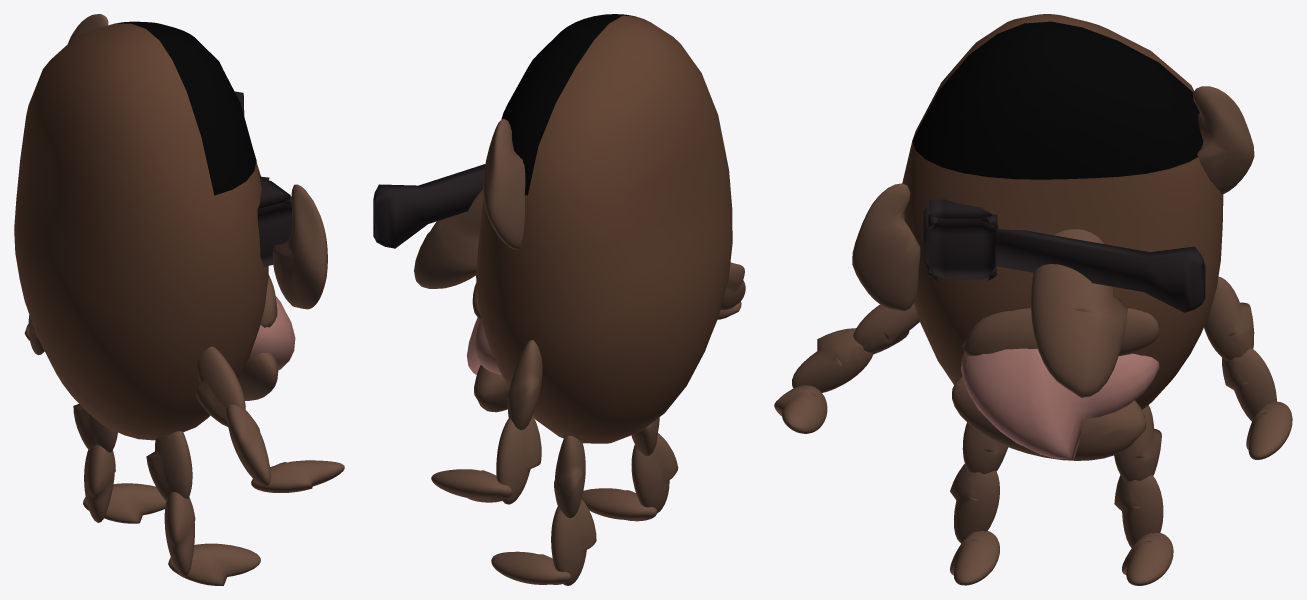
File: best diddy model.fbx
The picture shows the model from 3 angles, left to right: view 1: azimuth 30°, elevation 25°; view 2: azimuth 150°, elevation 25°; view 3: azimuth 270°, elevation 25°; orthographic projection.
Parts seen in each view (by area): view 1: Sphere, Sphere.007, Sphere.017, Sphere.011, Sphere.009, Cube, Sphere.016, Sphere.010, Sphere.015, Sphere.012, Sphere.014, Sphere.001 (+4 smaller); view 2: Sphere, Cube, Sphere.005, Sphere.008, Sphere.018, Sphere.014, Sphere.010, Sphere.019, Sphere.013, Sphere.020, Sphere.012, Sphere.011 (+4 smaller); view 3: Sphere, Cube, Sphere.001, Sphere.005, Sphere.007, Sphere.008, Sphere.004, Sphere.003, Sphere.016, Sphere.019, Sphere.010, Sphere.014 (+8 smaller).
Part boxes in pixels (box(x1,y1,x2,y2)): Sphere: box(14, 21, 268, 440); Sphere.007: box(272, 184, 327, 309); Sphere.017: box(196, 346, 245, 426); Sphere.011: box(168, 543, 260, 585); Sphere.009: box(146, 431, 192, 501); Cube: box(235, 91, 292, 266); Sphere.016: box(226, 404, 270, 486); Sphere.010: box(164, 492, 195, 576); Sphere.015: box(251, 460, 344, 492); Sphere.012: box(83, 483, 165, 523); Sphere.014: box(84, 445, 115, 522); Sphere.001: box(247, 296, 295, 370); Sphere: box(476, 14, 732, 443); Cube: box(373, 164, 485, 248); Sphere.005: box(414, 190, 483, 288); Sphere.008: box(483, 118, 525, 249); Sphere.018: box(496, 415, 541, 504); Sphere.014: box(551, 499, 596, 585); Sphere.010: box(631, 433, 678, 512); Sphere.019: box(507, 340, 542, 429); Sphere.013: box(554, 435, 585, 517); Sphere.020: box(431, 469, 512, 502); Sphere.012: box(491, 551, 571, 584); Sphere.011: box(581, 488, 657, 521); Sphere: box(902, 14, 1223, 409); Cube: box(923, 199, 1205, 312); Sphere.001: box(961, 348, 1159, 459); Sphere.005: box(1030, 229, 1127, 397); Sphere.007: box(852, 183, 920, 311); Sphere.008: box(1193, 86, 1254, 194); Sphere.004: box(952, 376, 1145, 460); Sphere.003: box(962, 308, 1159, 355); Sphere.016: box(792, 328, 873, 392); Sphere.019: box(1204, 276, 1254, 360); Sphere.010: box(950, 464, 999, 543); Sphere.014: box(1114, 475, 1163, 547).
Size of the model in its own units: 370 by 688 by 599.
